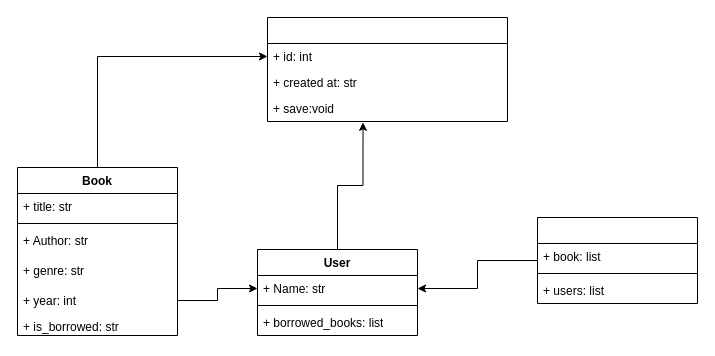
Image size: 715x356. Some labels were removed from this diagram. The box of each missing label's shape, as (x1, y1, x2, y2) in pixels:
BASE: (266, 16, 508, 122)
Library: (536, 216, 698, 304)
